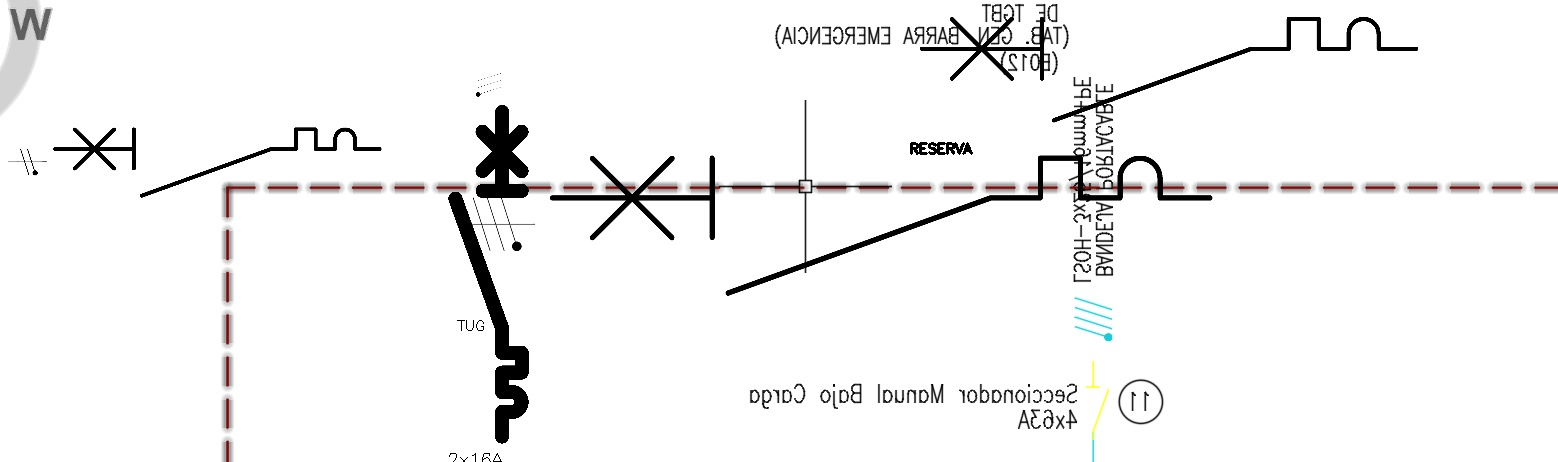interruptor_termomagnetico: (535, 141, 1227, 310), (909, 6, 1429, 133), (447, 103, 530, 445), (46, 121, 388, 204)
